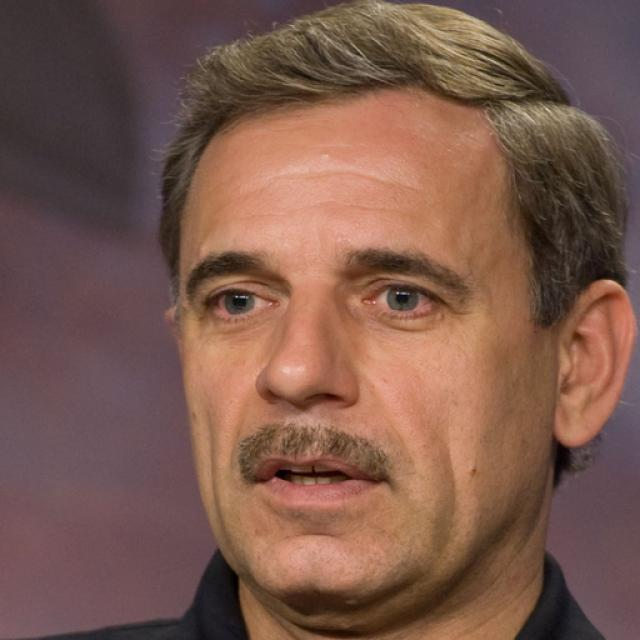Acne: (462, 457, 490, 488), (316, 145, 334, 164)
Wrinkle: (245, 162, 426, 199), (250, 195, 419, 222), (441, 446, 461, 524)
